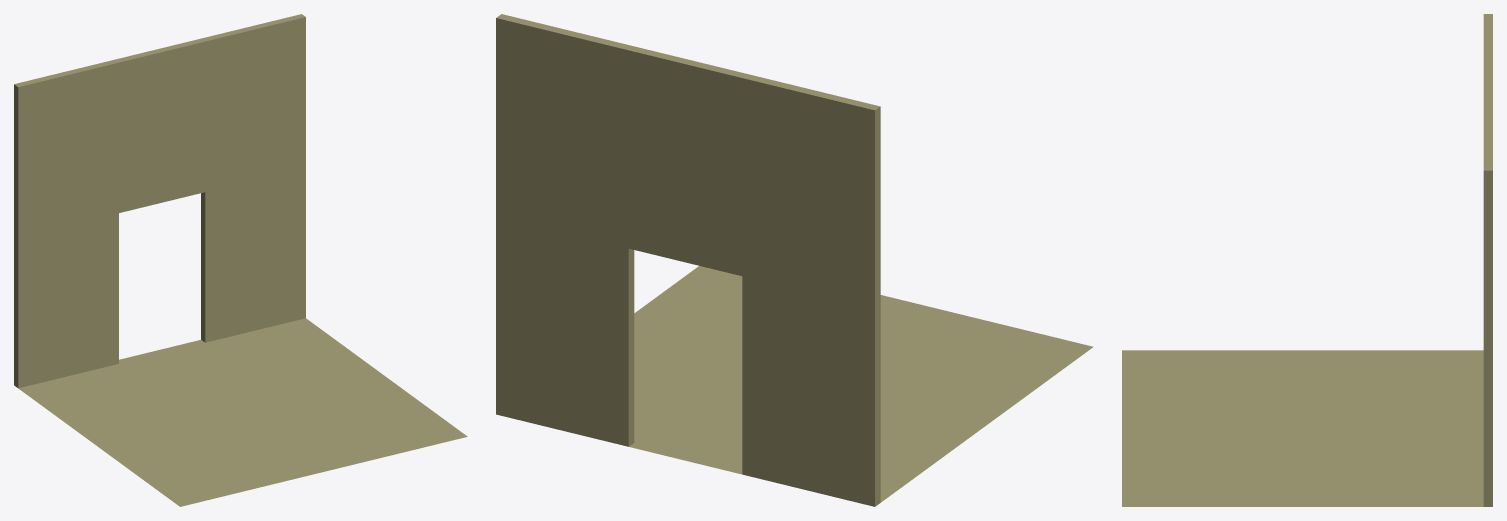
The model's file is HpolyFacWallDoor01.glb.
The picture shows the model from 3 angles, left to right: view 1: azimuth 30°, elevation 25°; view 2: azimuth 150°, elevation 25°; view 3: azimuth 270°, elevation 25°; orthographic projection. The views are drawn at different scales.
Visible parts, largest first — view 1: HpolyFacWallDoor01-col; view 2: HpolyFacWallDoor01-col; view 3: HpolyFacWallDoor01-col.
Boxes of the visible parts, x1,y1,x2,y2 form: HpolyFacWallDoor01-col: [14, 14, 467, 506]; HpolyFacWallDoor01-col: [496, 14, 1093, 506]; HpolyFacWallDoor01-col: [1122, 14, 1492, 506].
Bounding box in the file's own units: 4 × 4 × 4.
